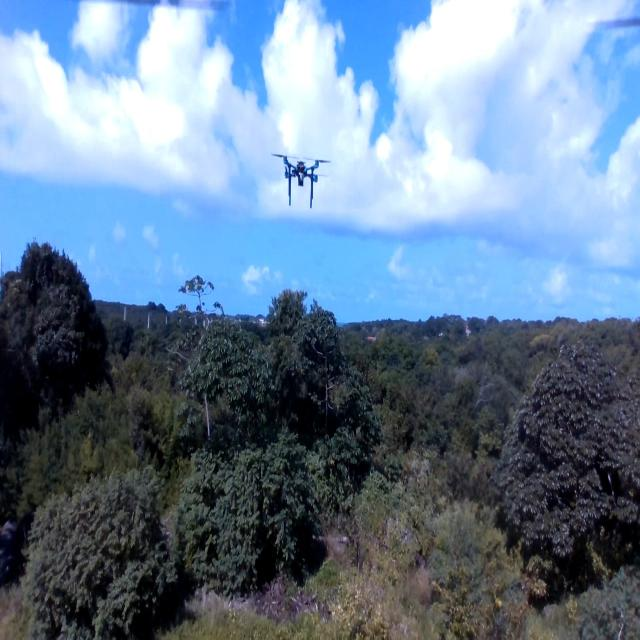-uav-: (271, 110, 336, 231)
